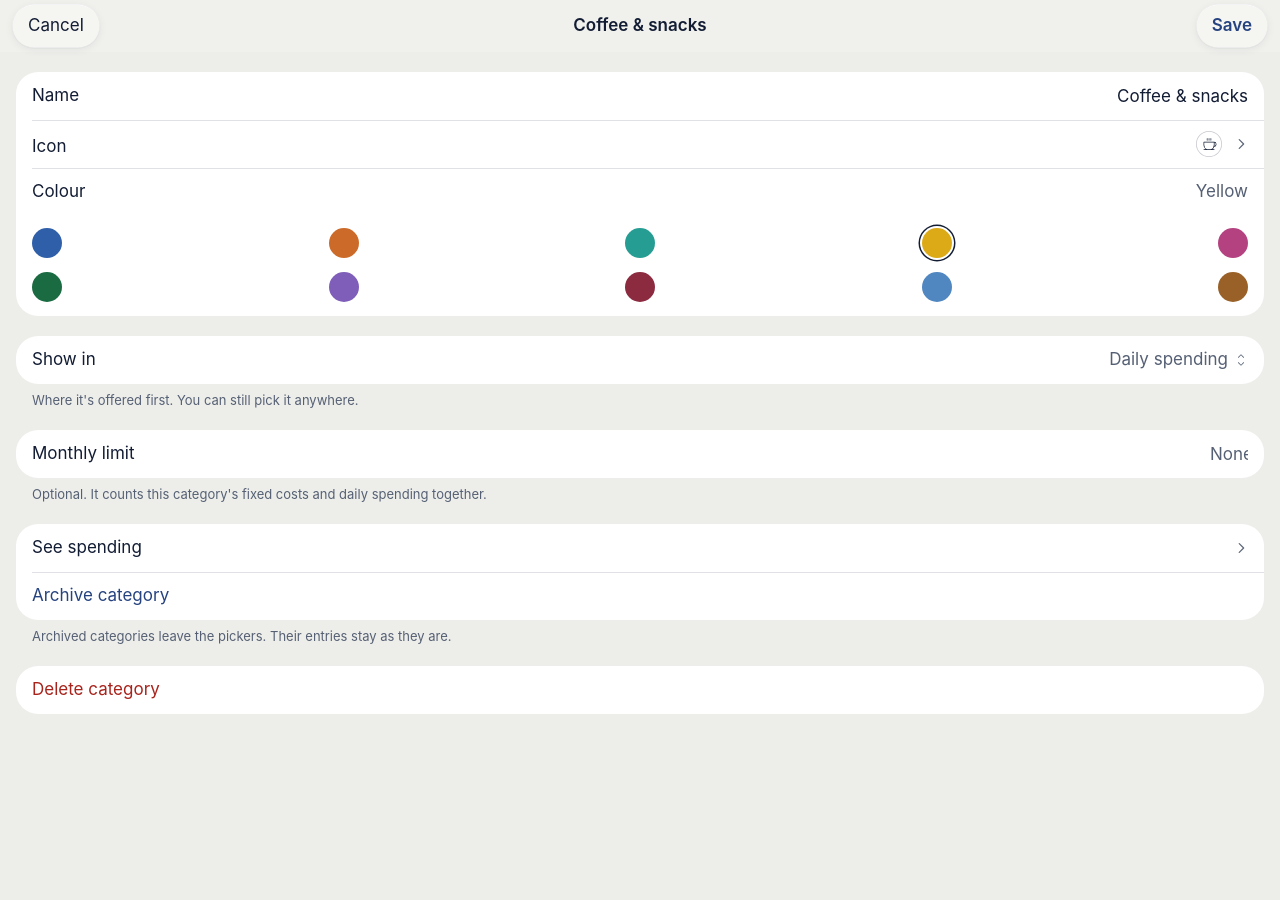
Test case: CategorySheet (SPEC §3.7) › asks for a name before saving
Step 1. Clear the field labelled "Name" → (807, 96), box [366,74,1248,118]
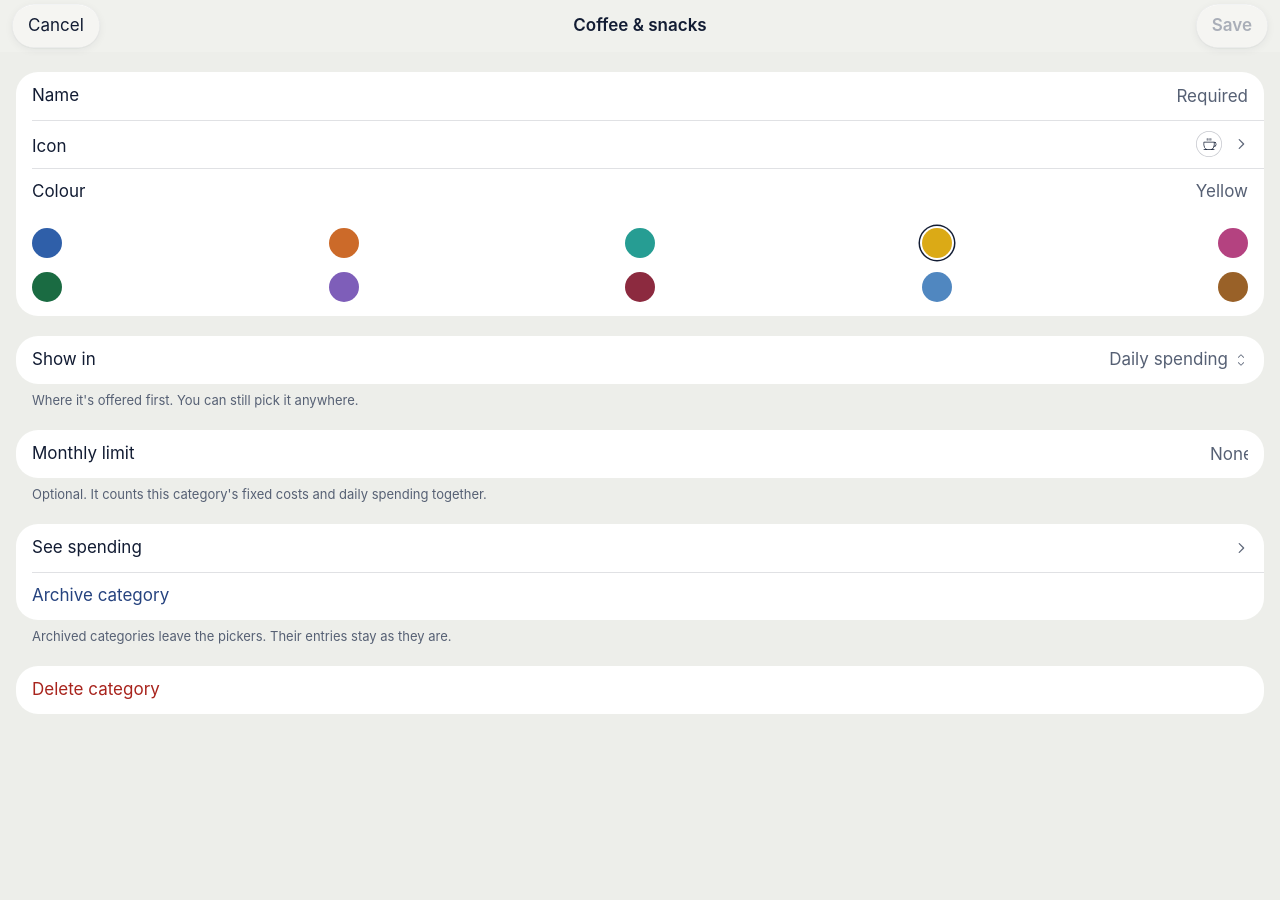
Step 2. Press Tab
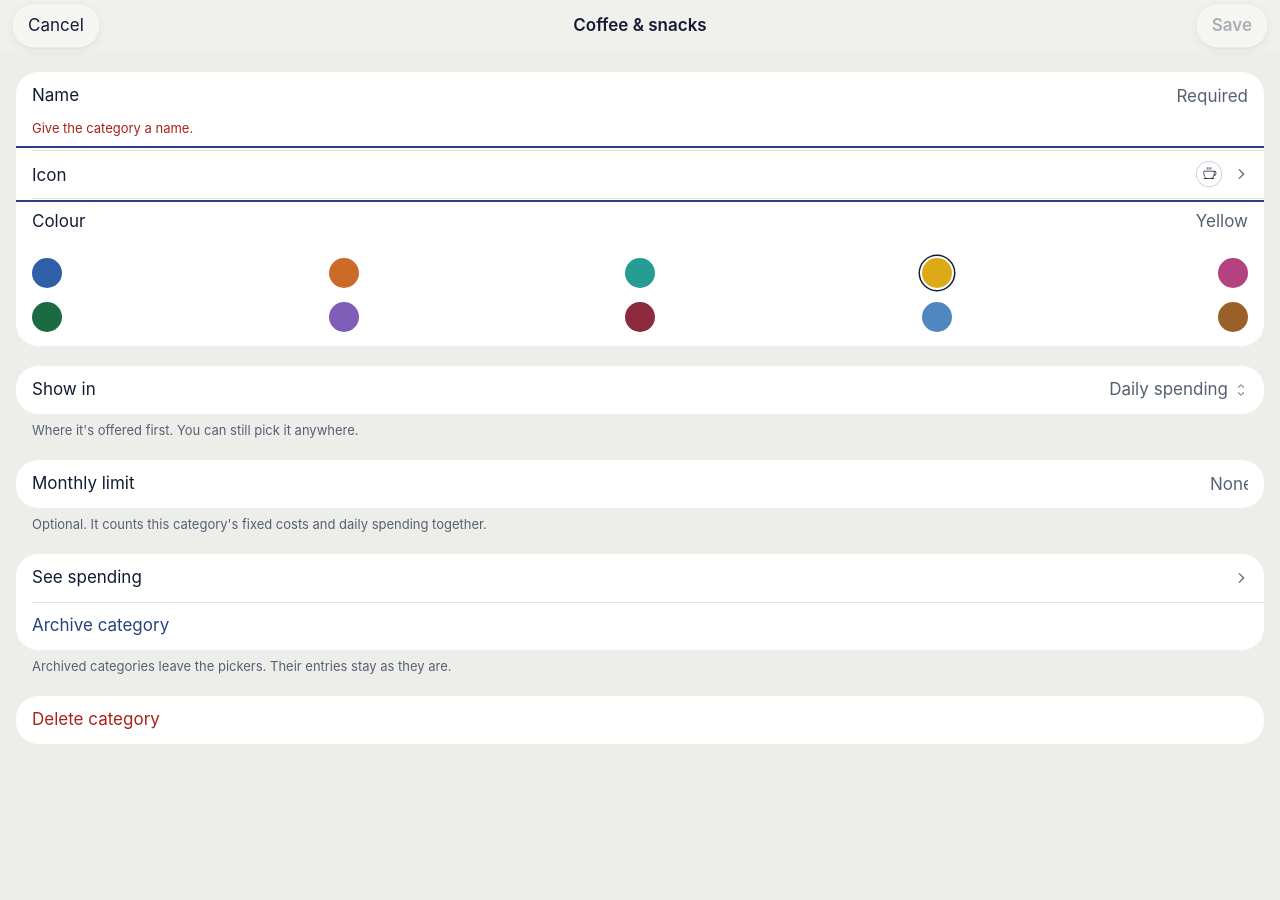
Result: the button with test id "sheet-save" is disabled at [1196,4,1268,48]
Result: the text "Give the category a name." is shown at [32,120,193,136]
